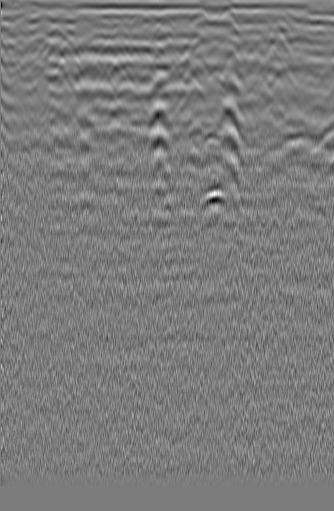가스: (195, 181, 235, 218)
상수: (288, 59, 320, 92)
오수: (0, 38, 25, 70)
우수: (145, 69, 172, 101)
